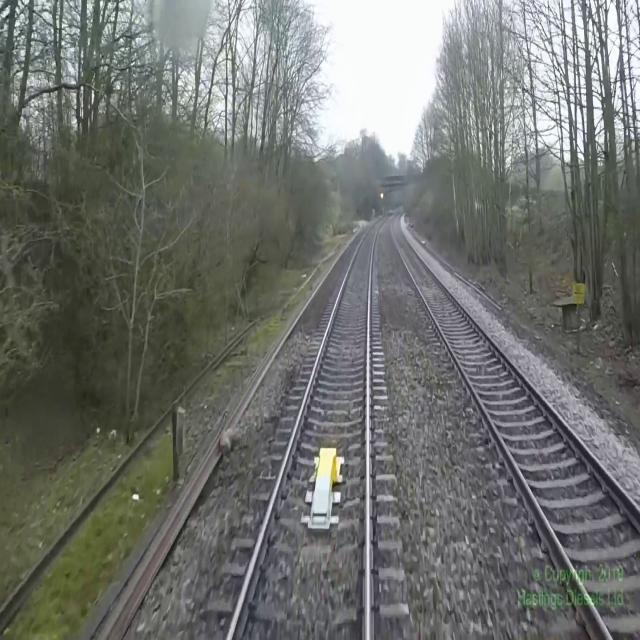rail-track: (392, 212, 640, 639), (231, 211, 394, 639)
